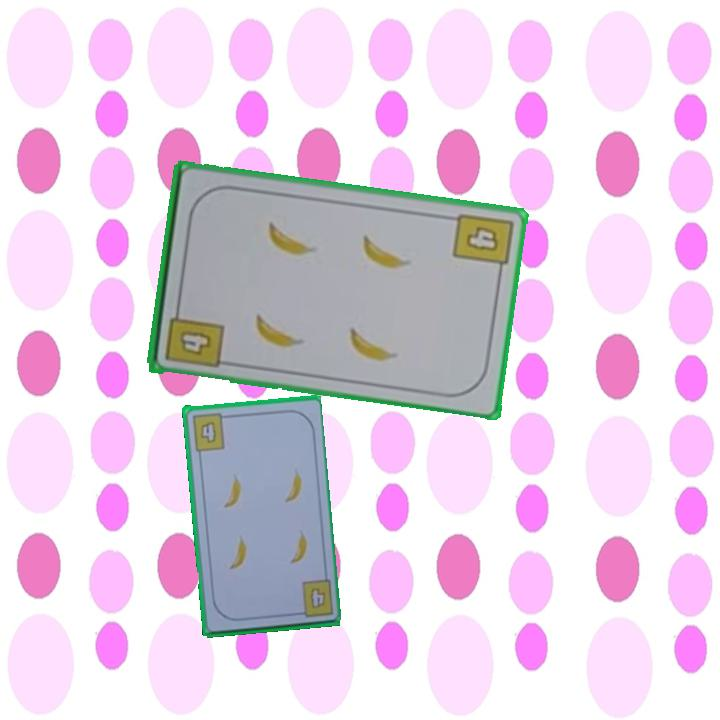4b: (449, 209, 516, 279), (161, 301, 227, 370), (188, 409, 231, 453), (306, 583, 328, 611)
